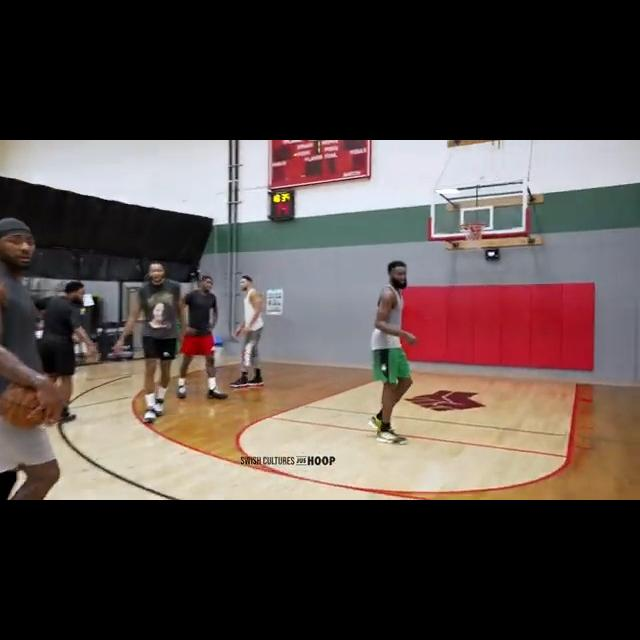basketball: (2, 378, 51, 431)
hoop: (461, 222, 486, 249)
person: (0, 217, 68, 499), (112, 260, 185, 424), (30, 267, 96, 426), (366, 251, 415, 448), (177, 273, 228, 400), (227, 276, 267, 388)
